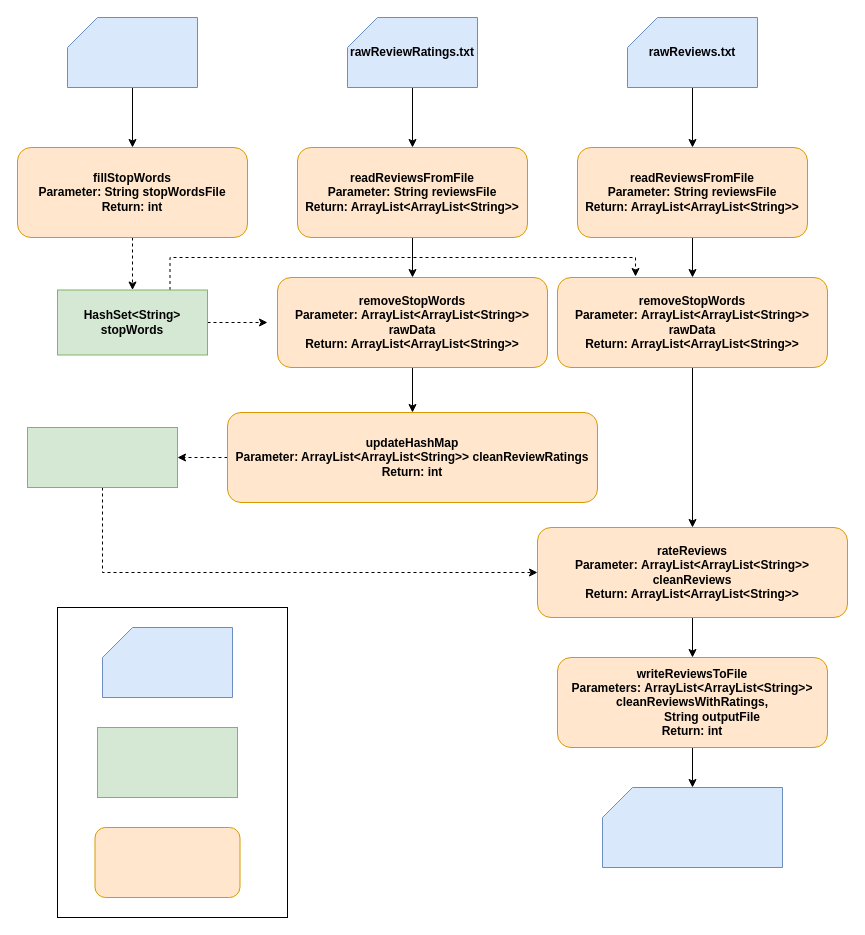
Some shapes in this 865 by 935 pixel diagram are drawn without their labels. The centre of each missing label's shape, as x and y in pixels:
cleanReviewsWithRatings.txt: [692,827]
files: [167,662]
HashMap<String, Integer[]> wordValue: [102,457]
instance variables: [167,762]
methods: [167,862]
stopwords.txt: [132,52]
